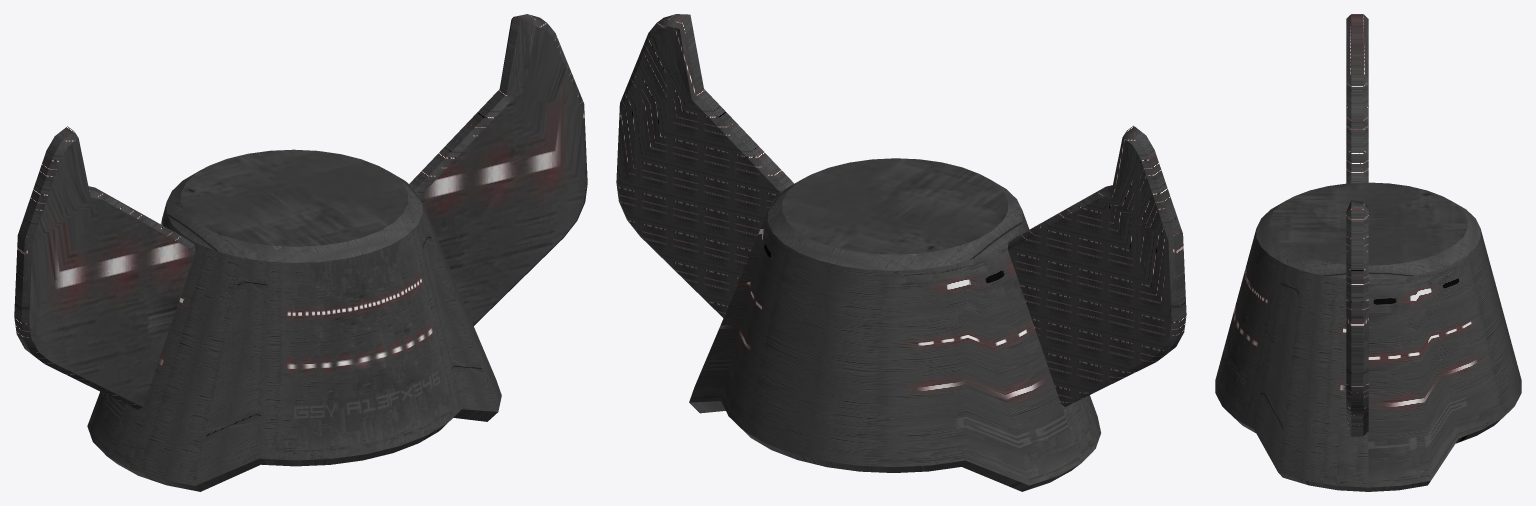
File: mothership01_ball_end.obj
3 views of the same model, side by side, from view 1: azimuth 30°, elevation 25°; view 2: azimuth 150°, elevation 25°; view 3: azimuth 270°, elevation 25° (orthographic). The views are drawn at different scales.
Parts seen in each view (by area): view 1: Cylinder026_Mesh.009; view 2: Cylinder026_Mesh.009; view 3: Cylinder026_Mesh.009.
Part boxes in pixels (x1,y1,x2,y2): Cylinder026_Mesh.009: (14, 14, 587, 491); Cylinder026_Mesh.009: (616, 14, 1186, 491); Cylinder026_Mesh.009: (1215, 14, 1521, 491).
Size of the model in its own units: 1 by 0.6 by 0.54.
1 material, 1 textured.
